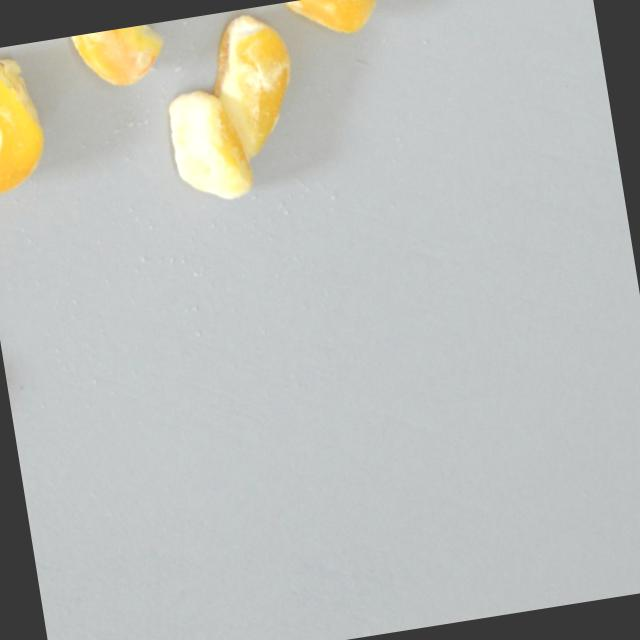dañado: (197, 2, 308, 171), (65, 21, 172, 97), (268, 0, 385, 51)
punto_negro: (159, 80, 258, 211), (0, 44, 58, 201)
